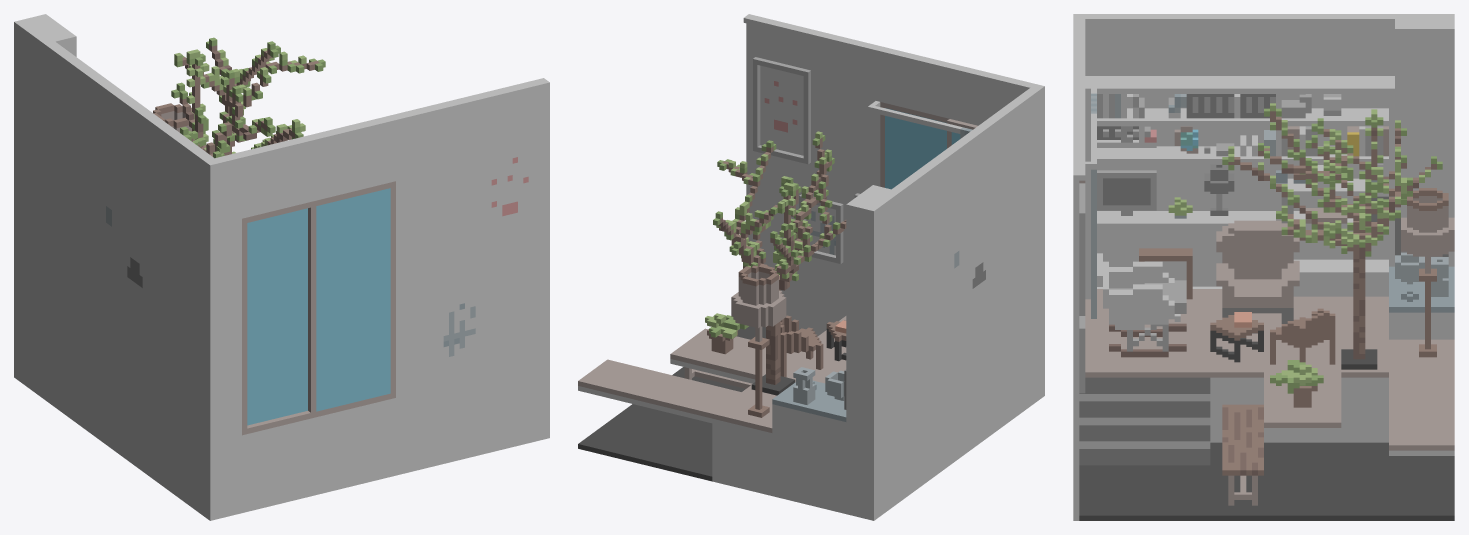
File: room.gltf
The picture shows the model from 3 angles, left to right: view 1: azimuth 30°, elevation 25°; view 2: azimuth 150°, elevation 25°; view 3: azimuth 270°, elevation 25°; orthographic projection. The views are drawn at different scales.
Bounding box in the file's own units: 64 × 64 × 64.
